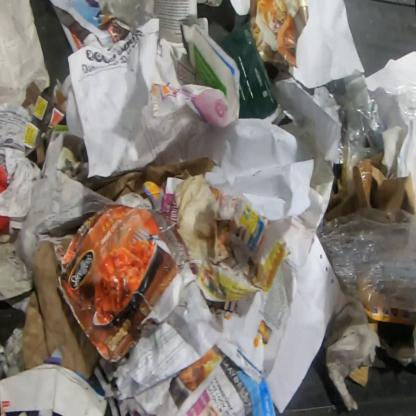cardboard: (52, 205, 192, 363), (21, 238, 100, 382), (216, 19, 282, 125), (323, 157, 415, 226), (22, 81, 66, 164)
soft_plastic: (315, 207, 416, 314), (324, 69, 386, 168), (383, 83, 415, 121)
